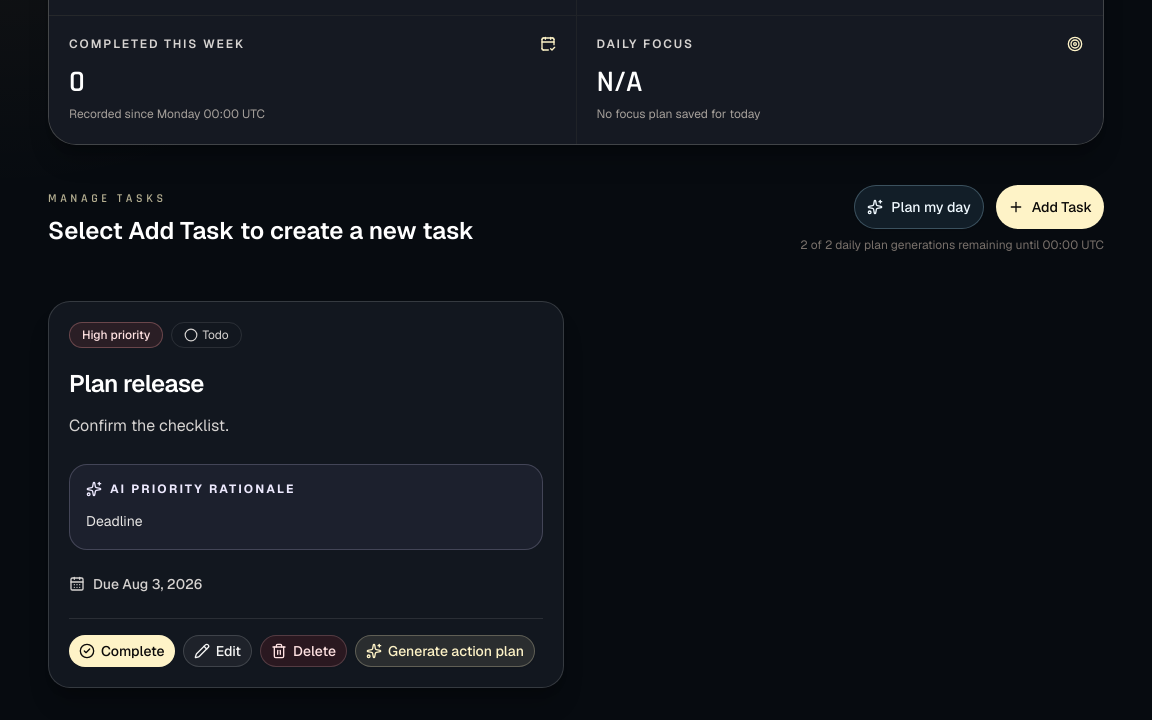
Test case: dashboard lifecycle failure state › keeps active state and suppresses celebration after toggle failure
(page scrolled)
Click the button "Complete".
click(122, 651)  # box [69, 635, 175, 667]
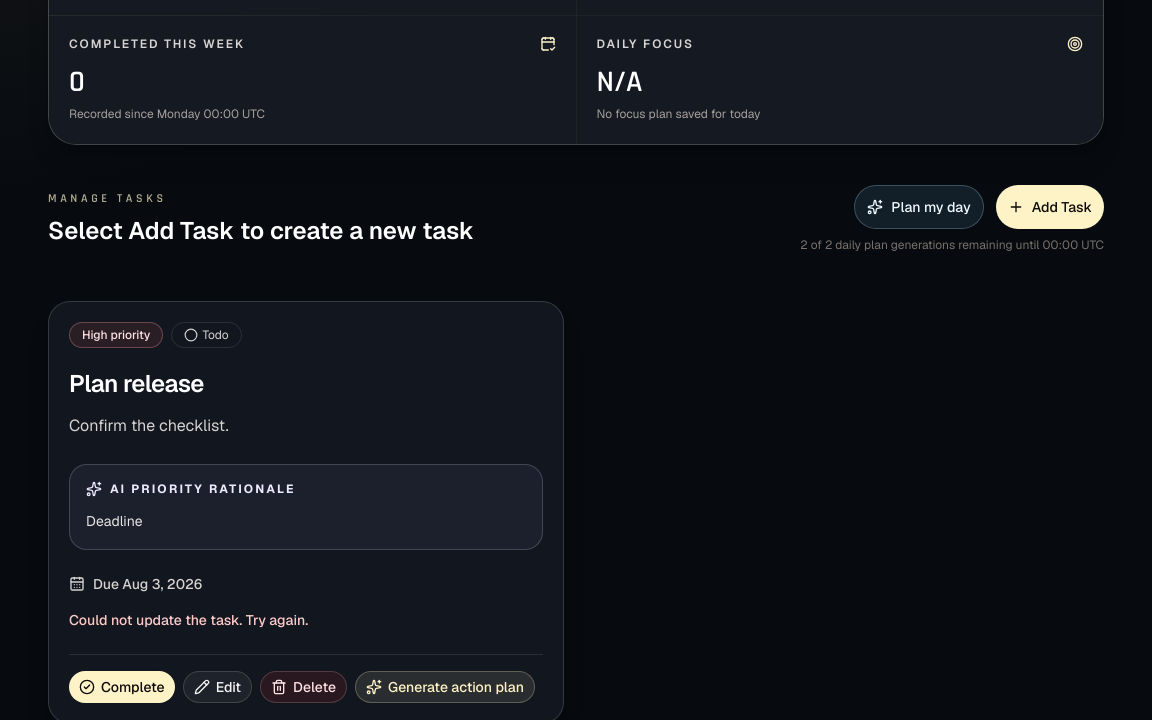
expect the text "Todo" is shown: met, box [171, 322, 242, 348]
expect the message reads "Could not update the task. Try again.": met, box [69, 611, 308, 629]
